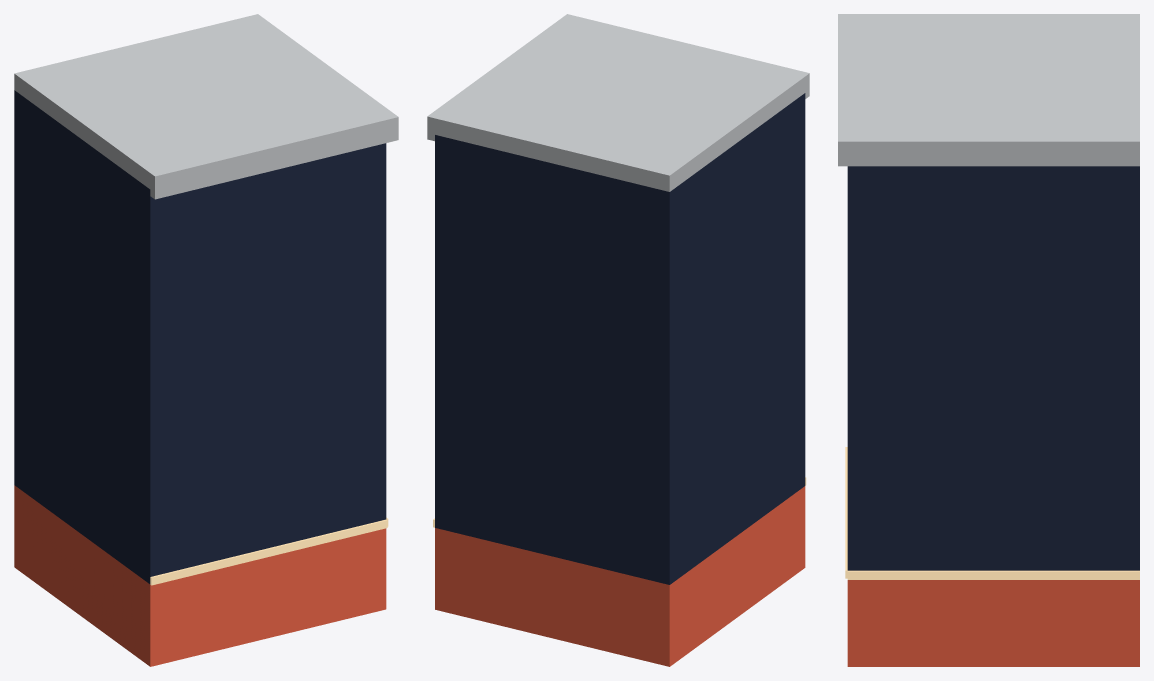
Rendered from SC_Bld_Store_Fascia_Corner_R.gltf.
3 views of the same model, side by side, from view 1: azimuth 30°, elevation 25°; view 2: azimuth 150°, elevation 25°; view 3: azimuth 270°, elevation 25° (orthographic). The views are drawn at different scales.
Visible parts, largest first — view 1: SC_Bld_Store_Fascia_Corner_R; view 2: SC_Bld_Store_Fascia_Corner_R; view 3: SC_Bld_Store_Fascia_Corner_R.
Part boxes in pixels (x1=…): SC_Bld_Store_Fascia_Corner_R: x1=14, y1=14, x2=398, y2=666; SC_Bld_Store_Fascia_Corner_R: x1=427, y1=14, x2=809, y2=666; SC_Bld_Store_Fascia_Corner_R: x1=838, y1=14, x2=1139, y2=666.
Size of the model in its own units: 0.465 by 0.912 by 0.465.
2 materials, 2 textured.
